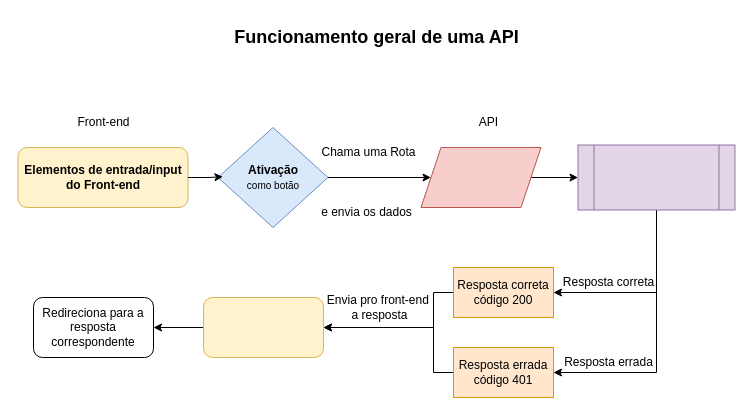
Some shapes in this 752 by 415 pixel diagram are drawn without their labels. Each missing label, with the centre of its shape:
Front-end Recebe a resposta: the point at 263,327
Função no back-end para validar o que for necessário: the point at 656,177
Rota POST, GET PUT, DELET: the point at 480,177
